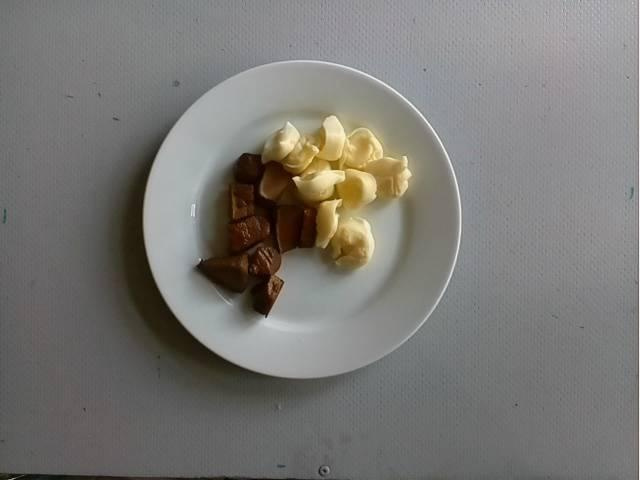Tortellini + meat: (196, 114, 412, 319)
